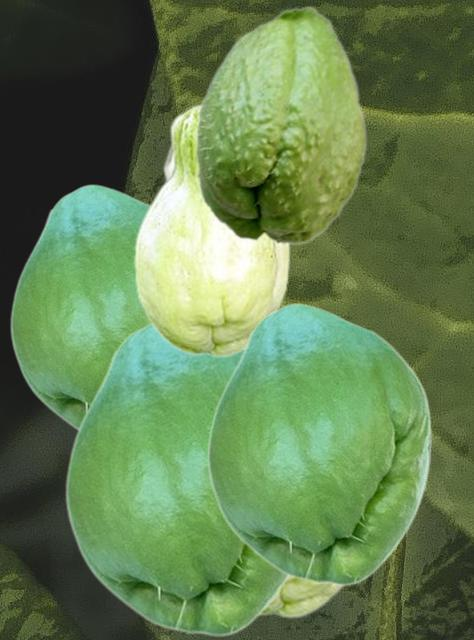sayote: (64, 322, 290, 637), (206, 303, 431, 586), (194, 4, 367, 245), (133, 101, 289, 357), (9, 184, 148, 430), (260, 578, 348, 618)
